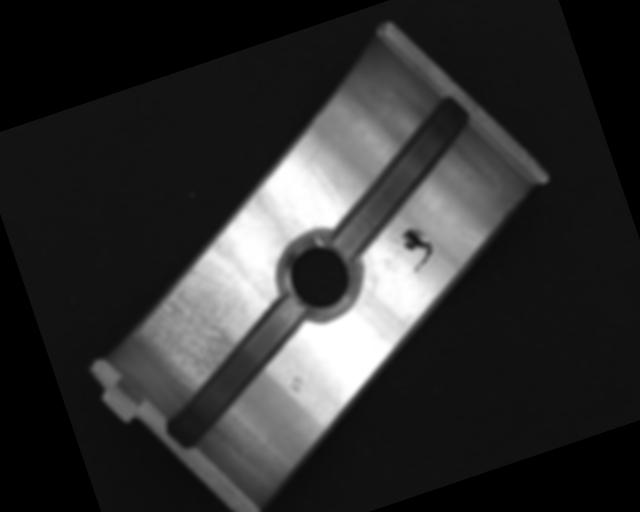blot: (397, 220, 440, 275)
bruise: (284, 373, 309, 399)
gap: (303, 91, 503, 257), (140, 296, 331, 452)
hole: (268, 221, 374, 330)
nick: (312, 158, 339, 206)
scratch: (118, 248, 271, 398)
